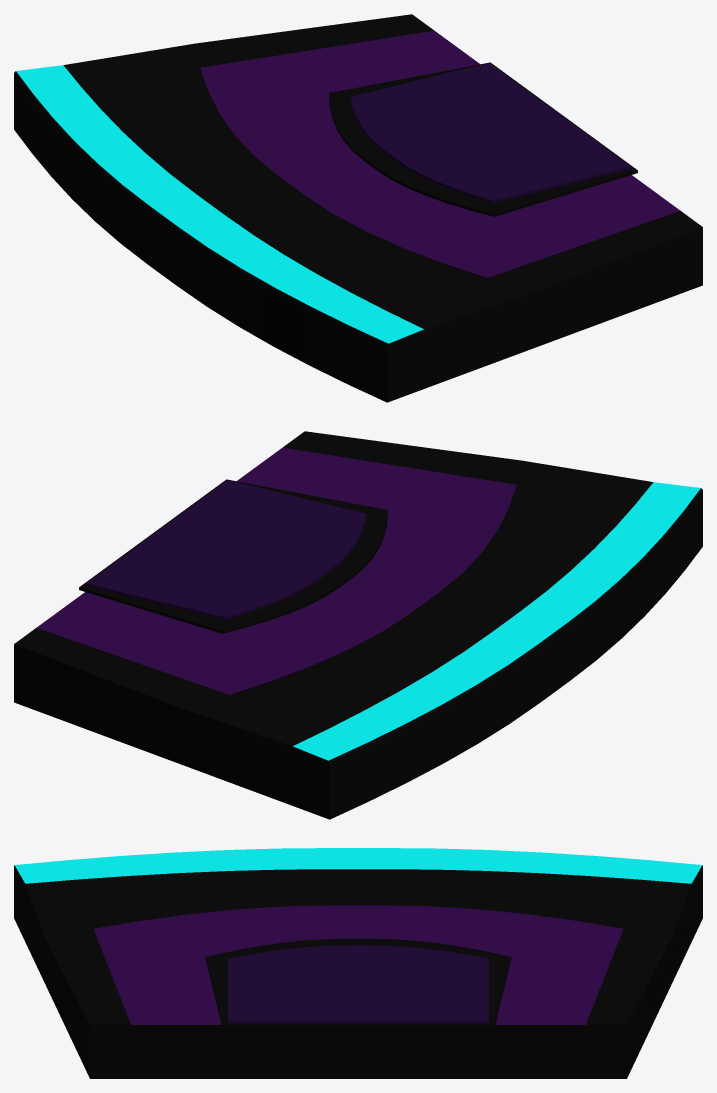
File: stage_2.fbx
3 renders of one model, top to bottom at view 1: azimuth 30°, elevation 25°; view 2: azimuth 150°, elevation 25°; view 3: azimuth 270°, elevation 25°, orthographic. The views are drawn at different scales.
Parts seen in each view (by area): view 1: stage_geo; view 2: stage_geo; view 3: stage_geo.
Boxes of the visible parts, left/top/right/bottom form: stage_geo: left=14, top=14, right=702, bottom=402; stage_geo: left=14, top=431, right=702, bottom=819; stage_geo: left=14, top=848, right=702, bottom=1078.
Bounding box in the file's own units: 1493 × 227 × 2404.
